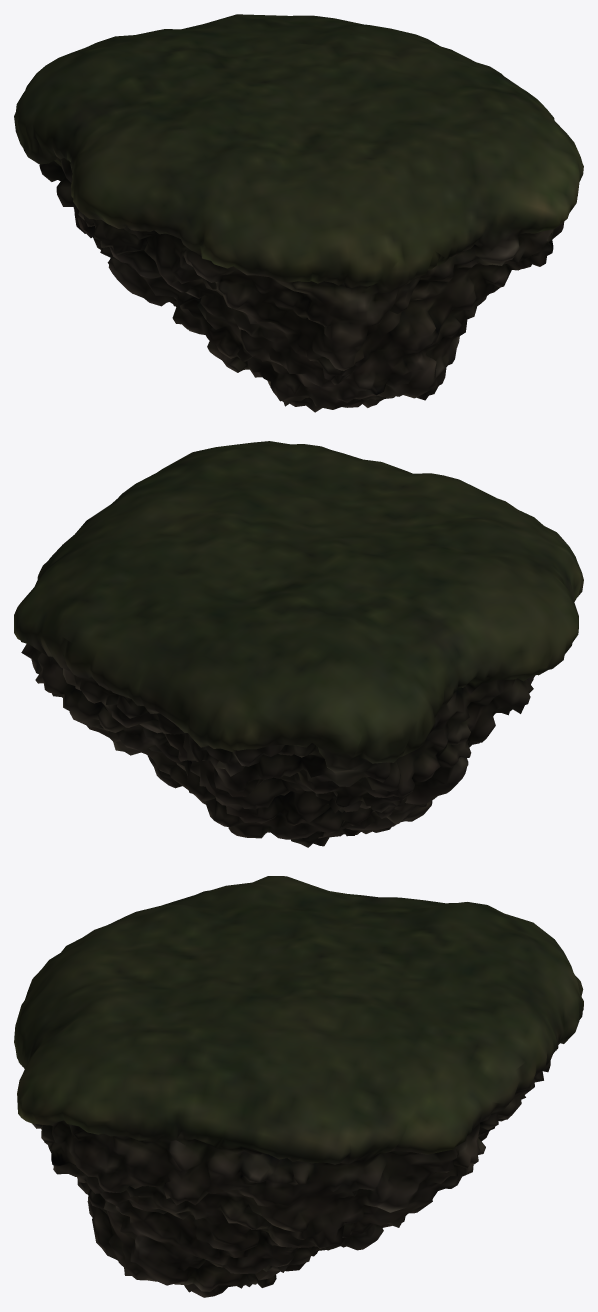
File: GrassBoulder_01.fbx
The picture shows the model from 3 angles, top to bottom: view 1: azimuth 30°, elevation 25°; view 2: azimuth 150°, elevation 25°; view 3: azimuth 270°, elevation 25°; orthographic projection. The views are drawn at different scales.
Visible parts, largest first — view 1: GrassBoulder_01_LOD_0; view 2: GrassBoulder_01_LOD_0; view 3: GrassBoulder_01_LOD_0.
Boxes of the visible parts, x1=… form: GrassBoulder_01_LOD_0: x1=14, y1=14, x2=583, y2=412; GrassBoulder_01_LOD_0: x1=14, y1=441, x2=583, y2=847; GrassBoulder_01_LOD_0: x1=14, y1=876, x2=583, y2=1297.
Size of what is drawn, in the model's own units: 693 by 449 by 718.
